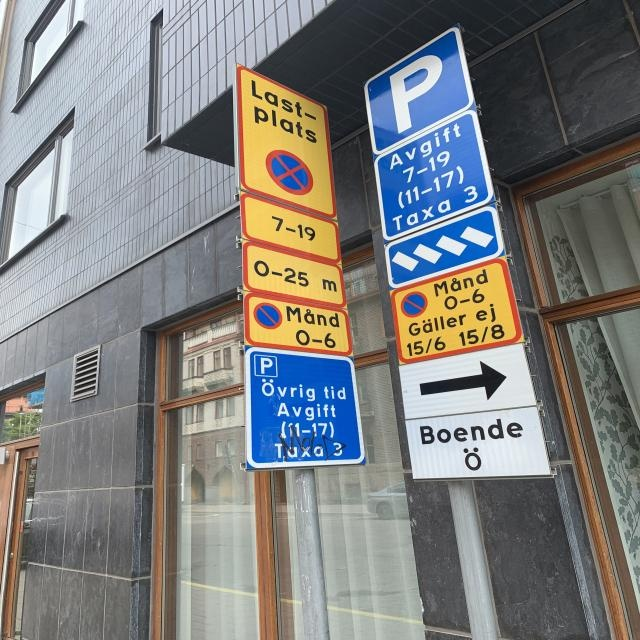P-skylt: (362, 21, 475, 152)
